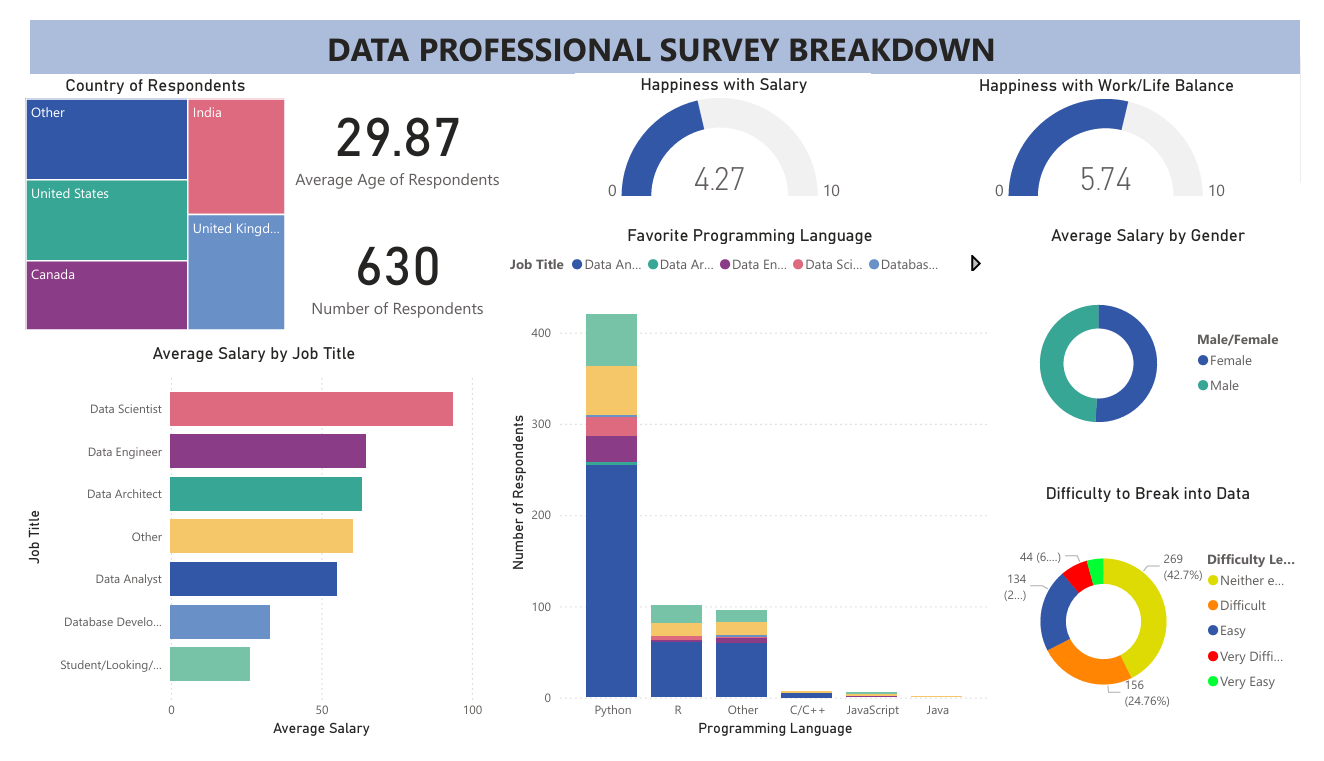

The dashboard page shown, as its layout file describes it:
{"tool":"powerbi","page":{"name":"Page 1","canvas":[1280,720],"ordinal":0},"visuals":[{"type":"textbox","box":[9.7,0,1270.3,54.5],"z":0},{"type":"card","fields":{"Values":["CountNonNull(Data Professional Survey.Unique ID)"]},"box":[269,182.9,214.7,130.9],"z":1000},{"type":"card","fields":{"Values":["Avg(Data Professional Survey.Q10 - Current Age)"]},"box":[269,54.3,214.7,130.9],"z":2000},{"type":"barChart","title":"Average Salary by Job Title","fields":{"Category":["Data Professional Survey.Q1 - Which Title Best Fits your Current Role?.1"],"Y":["Avg(Data Professional Survey.Average Salary)"],"Series":["Data Professional Survey.Q1 - Which Title Best Fits your Current Role?.1"]},"box":[0,322.1,466,397.6],"z":3000},{"type":"columnChart","title":"Favorite Programming Language","fields":{"Category":["Data Professional Survey.Q5 - Favorite Programming Language.1"],"Y":["CountNonNull(Data Professional Survey.Unique ID)"],"Series":["Data Professional Survey.Q1 - Which Title Best Fits your Current Role?.1"]},"box":[483.7,204.1,490.8,515.5],"z":4000},{"type":"treemap","title":"Country of Respondents","fields":{"Group":["Data Professional Survey.Q11 - Which Country do you live in?.1"],"Values":["Count(Data Professional Survey.Q1 - Which Title Best Fits your Current Role?.1)"]},"box":[0,54.3,269,259.5],"z":5000},{"type":"gauge","title":"Happiness with Work/Life Balance","fields":{"Y":["Avg(Data Professional Survey.Q6 - How Happy are you in your Current Position with the following? (Work/Life Balance))"],"MinValue":["Min(Data Professional Survey.Q6 - How Happy are you in your Current Position with the following? (Work/Life Balance))"],"MaxValue":["Max(Data Professional Survey.Q6 - How Happy are you in your Current Position with the following? (Work/Life Balance))"],"TargetValue":["Sum(Data Professional Survey.Q6 - How Happy are you in your Current Position with the following? (Work/Life Balance))"]},"box":[952.5,54.1,272.4,131.4],"z":6000},{"type":"gauge","title":"Happiness with Salary","fields":{"Y":["Avg(Data Professional Survey.Q6 - How Happy are you in your Current Position with the following? (Salary))"],"MinValue":["Min(Data Professional Survey.Q6 - How Happy are you in your Current Position with the following? (Salary))"],"MaxValue":["Max(Data Professional Survey.Q6 - How Happy are you in your Current Position with the following? (Salary))"]},"box":[555.5,53.1,295.6,131.4],"z":7000},{"type":"donutChart","title":"Average Salary by Gender","fields":{"Category":["Data Professional Survey.Q9 - Male/Female?"],"Y":["Avg(Data Professional Survey.Average Salary)"]},"box":[974.5,204.1,305.5,258.4],"z":8000},{"type":"donutChart","title":"Difficulty to Break into Data","fields":{"Category":["Data Professional Survey.Q7 - How difficult was it for you to break into Data?"],"Y":["CountNonNull(Data Professional Survey.Unique ID)"]},"box":[974.5,462.5,305.5,257.2],"z":9000}]}

Visuals, with their boxes in screenshot pixels (x1, y1, x2, y2), scaled from the page's 1280x720 canvas onto the 1324x761 screenshot:
textbox: [10, 0, 1323, 58]
card - CountNonNull(Data Professional Survey.Unique ID): [278, 193, 500, 332]
card - Avg(Data Professional Survey.Q10 - Current Age): [278, 57, 500, 196]
"Average Salary by Job Title" barChart: [0, 340, 482, 760]
"Favorite Programming Language" columnChart: [500, 216, 1008, 760]
"Country of Respondents" treemap: [0, 57, 278, 332]
"Happiness with Work/Life Balance" gauge: [985, 57, 1267, 196]
"Happiness with Salary" gauge: [575, 56, 880, 195]
"Average Salary by Gender" donutChart: [1008, 216, 1323, 489]
"Difficulty to Break into Data" donutChart: [1008, 489, 1323, 760]
